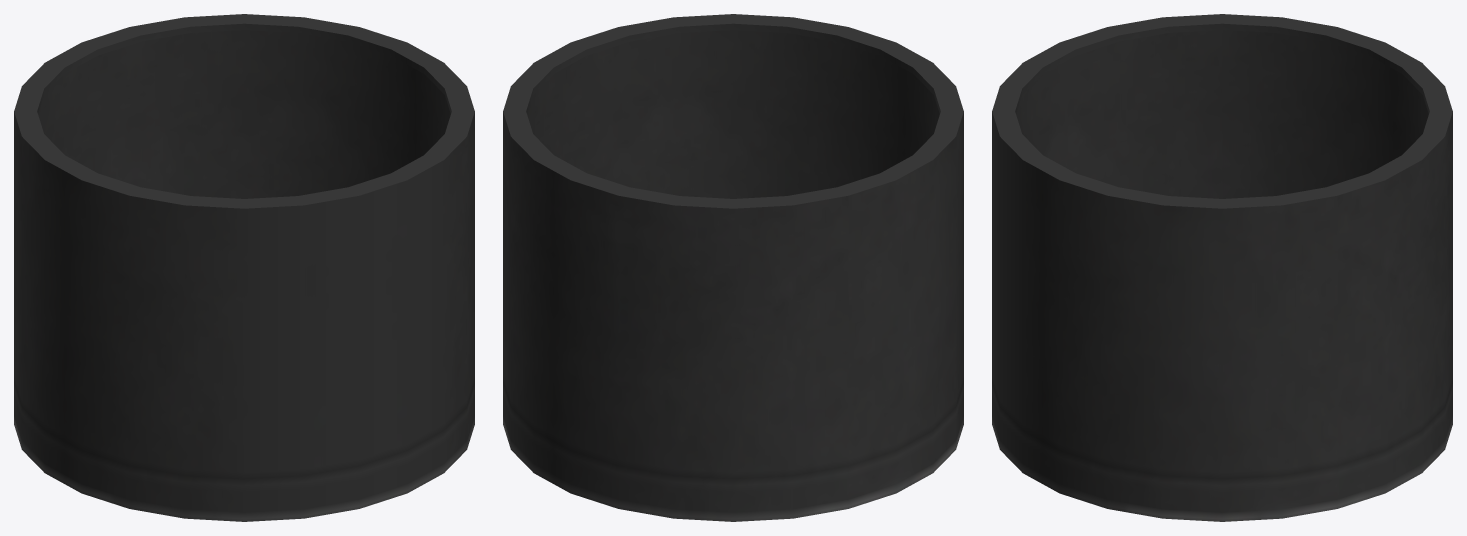
Rendered from rotanev_fuselage_s2_1_bare.obj.
3 views of the same model, side by side, from view 1: azimuth 30°, elevation 25°; view 2: azimuth 150°, elevation 25°; view 3: azimuth 270°, elevation 25° (orthographic).
Parts seen in each view (by area): view 1: 1; view 2: 1; view 3: 1.
Boxes of the visible parts, <box> form: 1: <box>14,14,474,521</box>; 1: <box>503,14,963,521</box>; 1: <box>992,14,1452,521</box>.
Size of the model in its own units: 2.5 by 1.88 by 2.5.
